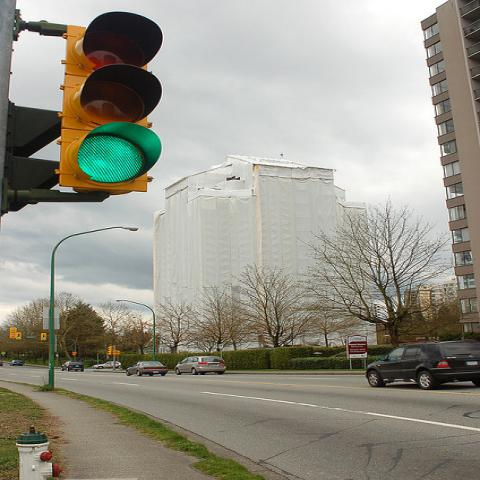car: (367, 342, 477, 388), (175, 356, 227, 375), (125, 361, 168, 376), (60, 360, 85, 372), (92, 361, 122, 369), (10, 359, 23, 366)
